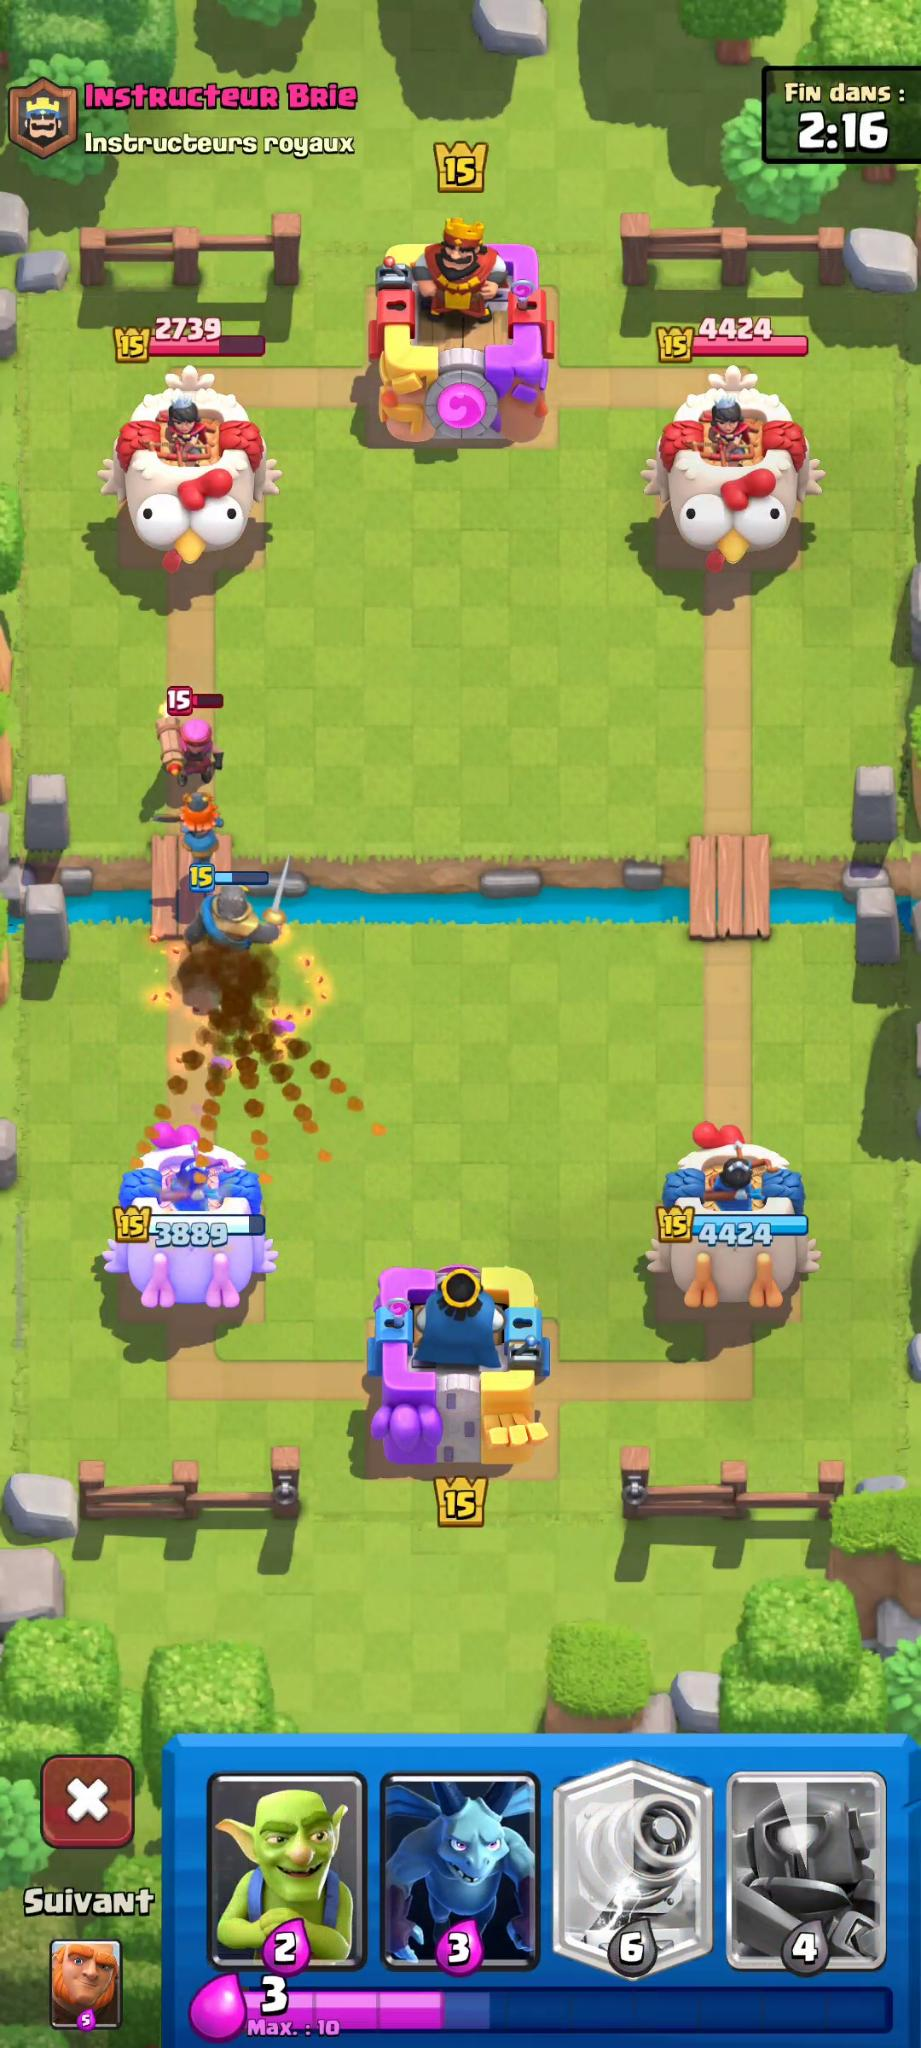chevalier: (182, 858, 312, 989)
